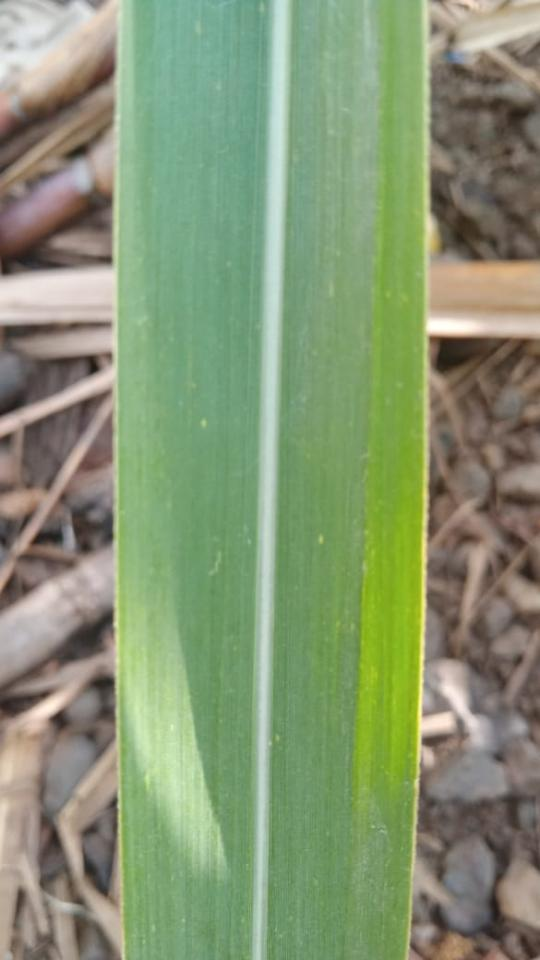Healthy: (112, 0, 428, 959)
